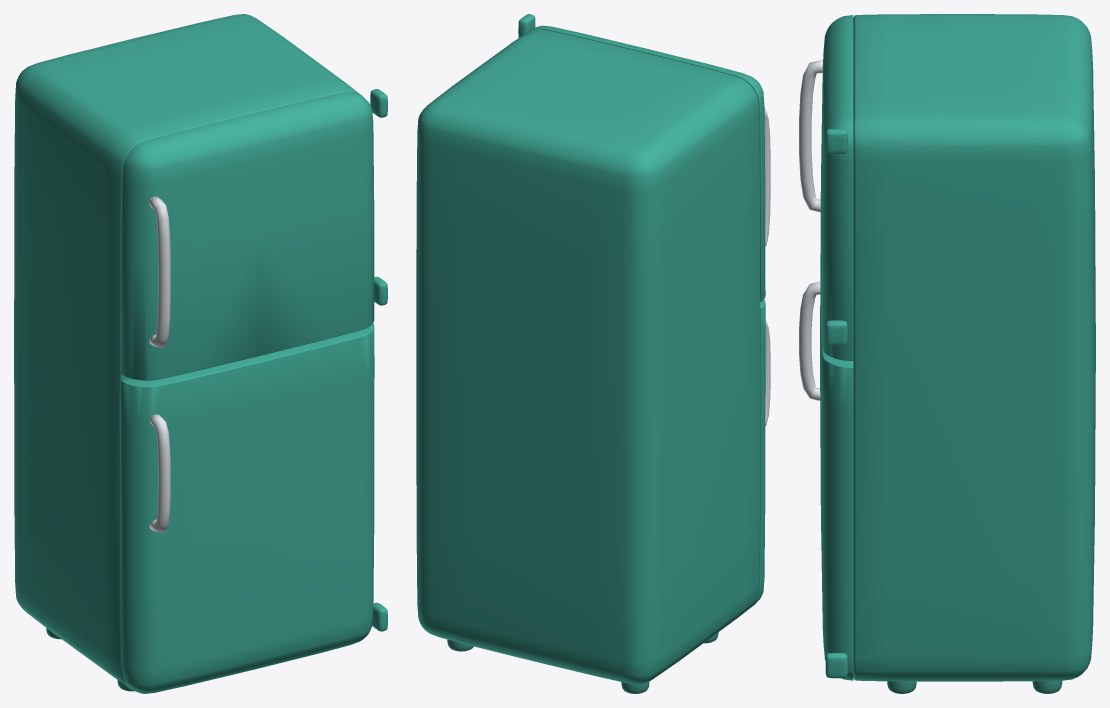
Rendered from fridge_a.glb.
3 renders of one model, left to right at view 1: azimuth 30°, elevation 25°; view 2: azimuth 150°, elevation 25°; view 3: azimuth 270°, elevation 25°, orthographic. The views are drawn at different scales.
Visible parts, largest first — view 1: body, door, door_top; view 2: body, door_top, door; view 3: body, door_top, door.
Part boxes in pixels (box(x1,y1,x2,y2)): body: box(14, 14, 358, 691); door: box(121, 323, 387, 693); door_top: box(121, 89, 387, 380); body: box(416, 29, 760, 693); door_top: box(518, 14, 770, 301); door: box(754, 299, 770, 604); body: box(853, 14, 1095, 693); door_top: box(799, 15, 853, 360); door: box(799, 282, 853, 680).
Bounding box in the file's own units: 0.812 × 1.72 × 0.796.
